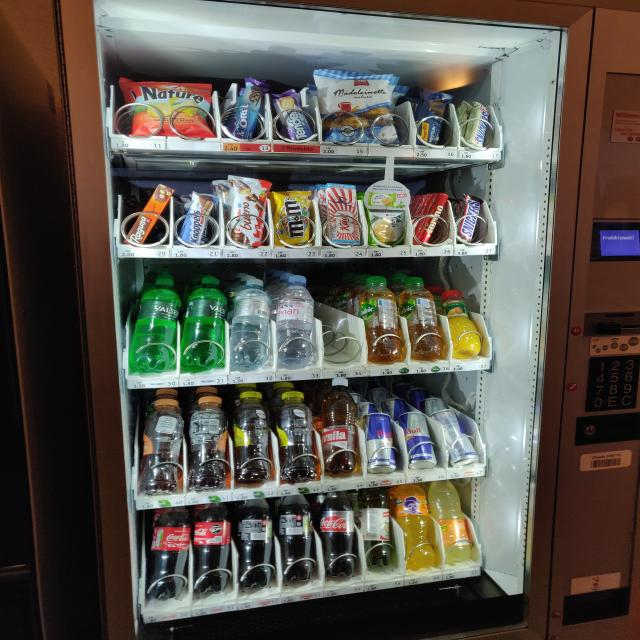bueno___43__4008400320328: (224, 179, 268, 246)
coke__flasche_50__54491472: (141, 505, 188, 603), (188, 502, 229, 594)
coke_light_flasche_50__5449238: (322, 493, 357, 576)
coke_zero_flasche_50__5449000131836: (233, 498, 275, 590), (278, 497, 313, 581)
darwida_sandwich____7610032065170: (368, 190, 404, 246)
erle____: (317, 62, 402, 144)
evian___50__3068320353500: (275, 276, 318, 368)
fanta___50__40822938: (396, 483, 435, 569)
fuse_lemon__50__5449000235947: (232, 393, 273, 485), (278, 392, 316, 486)
fuse_peach__50__5449000236623: (139, 394, 183, 494), (187, 396, 229, 492)
granini_orange__50__: (442, 290, 478, 358)
knoppers_riegel____4035800488808: (175, 194, 214, 246)
milka_oreo_riegel_37_1_7622210704740: (225, 77, 266, 140)
milka_tender____: (274, 86, 320, 142)
mnms_gelb__45__40111445: (272, 187, 310, 246)
powerbar_proteinplusschoko__55__4029679520028: (411, 88, 448, 143)
ragusa___50__76401121: (123, 185, 173, 246)
ramseier_jusdepomme__50__7610057001078: (356, 487, 392, 567)
redbull___33__90162909: (436, 408, 474, 464), (401, 410, 435, 471), (366, 412, 394, 473)
rivella_rot__50__7610097111072: (316, 378, 356, 476)
schweppes_citrus__50__: (432, 482, 472, 560)
snickers___50__5000159461122: (456, 191, 484, 242)
snickers_weis__50__5000159461122: (460, 99, 492, 147)
torino___46__76415272: (418, 194, 450, 246)
valser_classic__50__76404160: (130, 280, 182, 369), (181, 278, 227, 369)
valser_still__50__7610335002575: (230, 280, 274, 369)
volvic_teeminze__50__3057640335648: (368, 278, 406, 360), (407, 274, 438, 354)
zweifel_salz__90__7610095005007: (124, 78, 215, 138)
